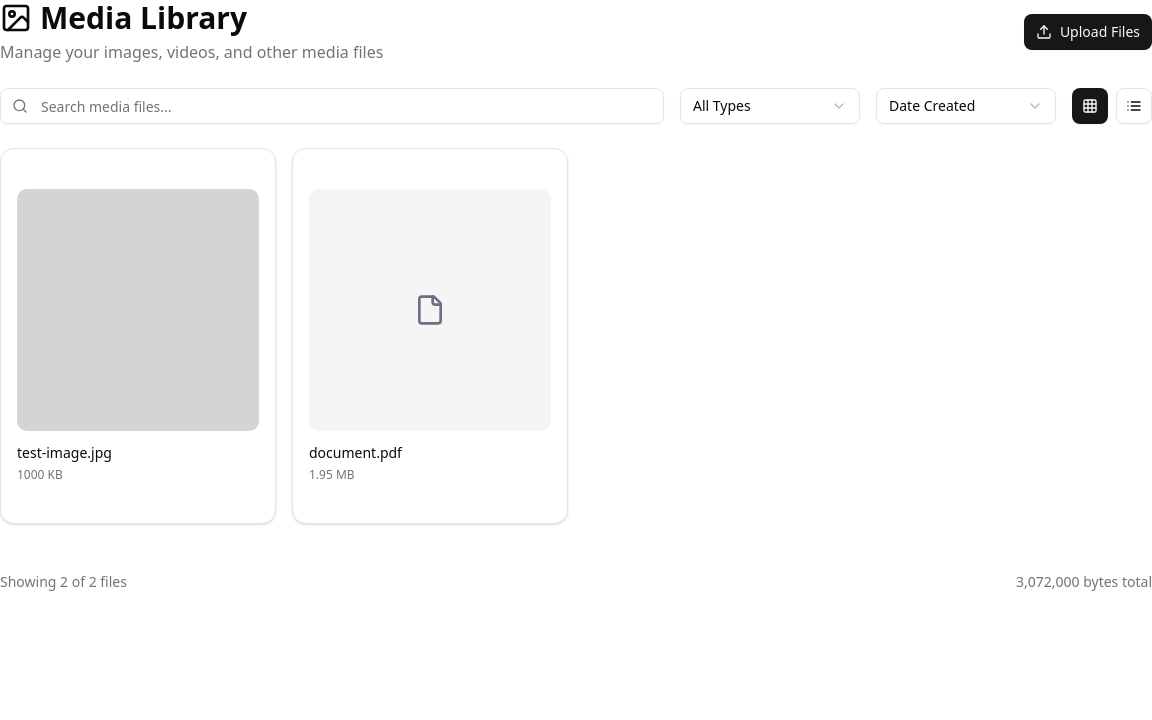
MediaLibrary Component › File Upload Functionality › opens upload dialog when upload button is clicked
Click the button "Upload Files" at (1088, 32), box [1024, 14, 1151, 50]
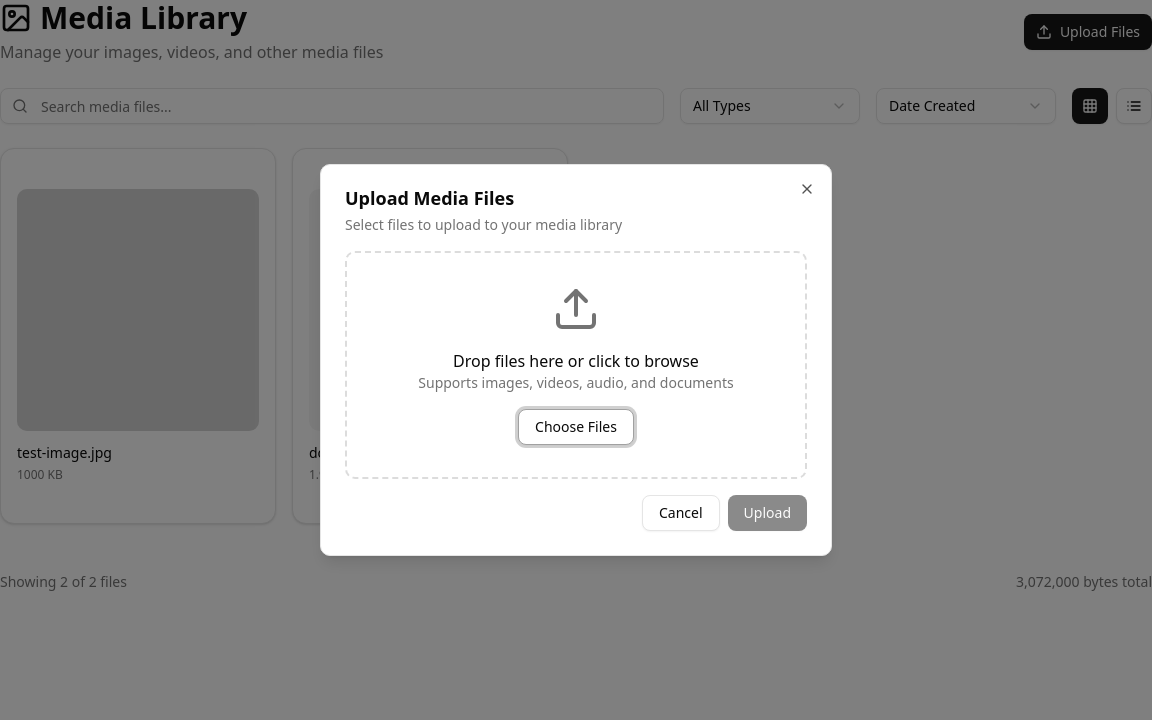
Expected: the heading "Upload Media Files" is shown, [345, 186, 514, 210]
